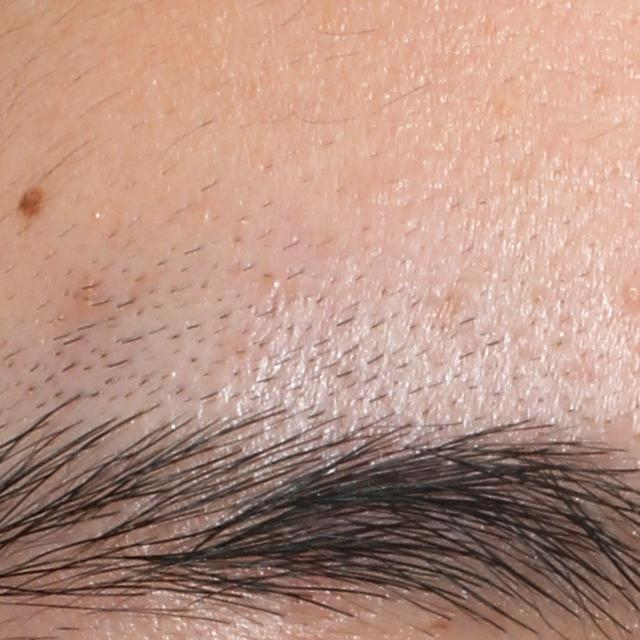nevus: (14, 184, 43, 220)
